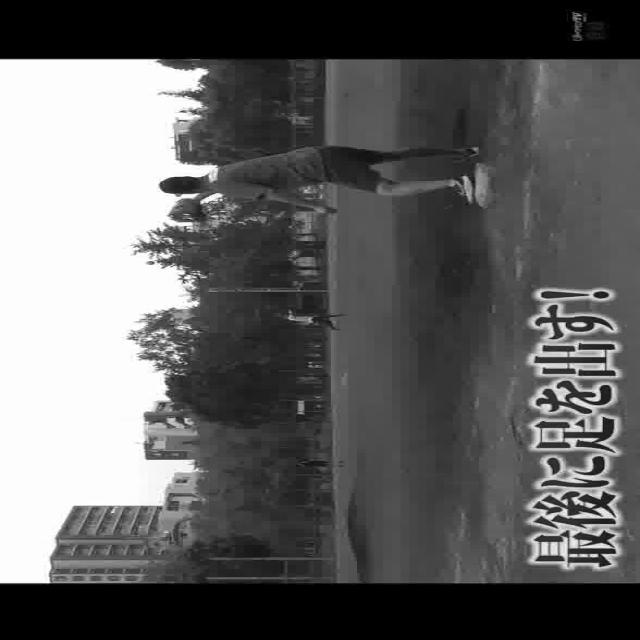base: (475, 158, 495, 206)
baseball: (145, 260, 153, 264)
baseball_glove: (164, 197, 204, 222)
shoe: (445, 142, 480, 164), (450, 174, 476, 202)
